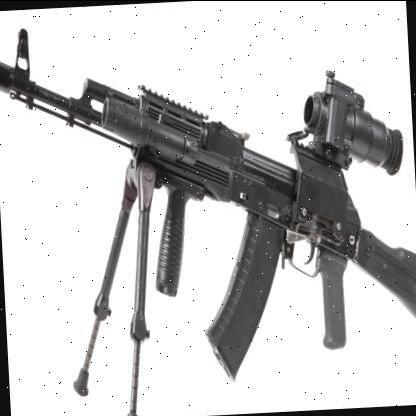rifle: (0, 0, 416, 385)
